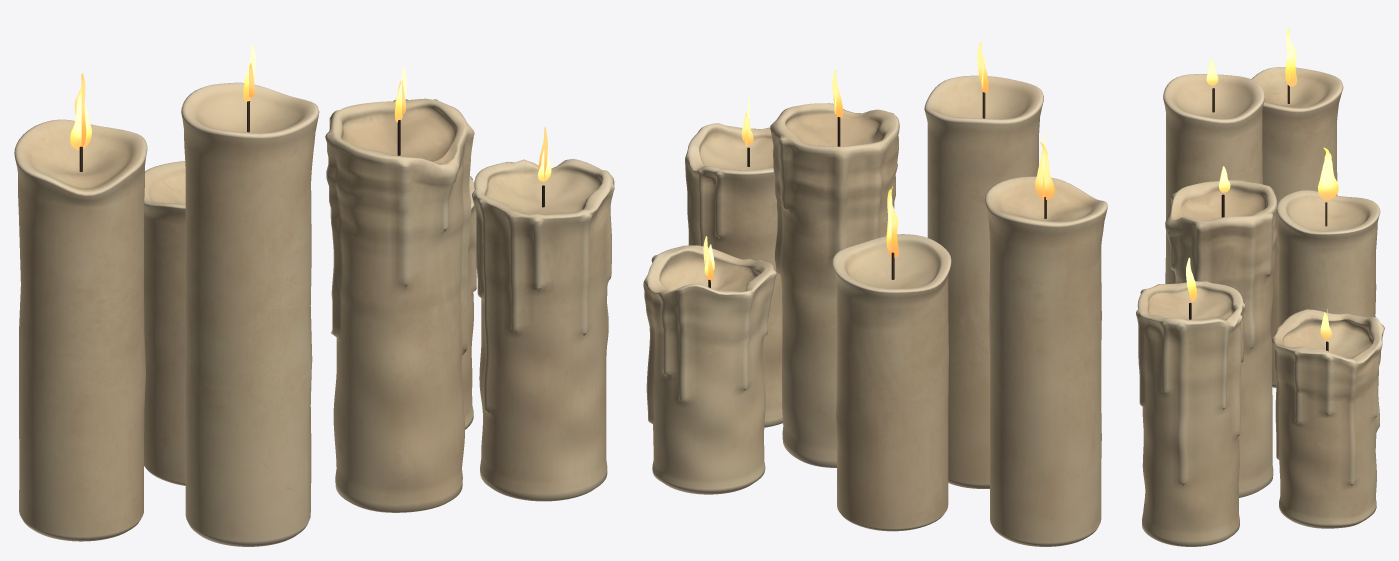
The model's file is candles_asset_pack.glb.
3 renders of one model, left to right at view 1: azimuth 30°, elevation 25°; view 2: azimuth 150°, elevation 25°; view 3: azimuth 270°, elevation 25°, orthographic. The views are drawn at different scales.
Parts seen in each view (by area): view 1: Object_3, Object_4, Object_2, Object_5; view 2: Object_3, Object_4, Object_5, Object_2; view 3: Object_4, Object_3, Object_5, Object_2.
Part boxes in pixels (box(x1,y1,x2,y2)): Object_3: box(14, 82, 319, 546); Object_4: box(325, 98, 614, 512); Object_2: box(70, 44, 551, 182); Object_5: box(397, 120, 544, 429); Object_3: box(832, 75, 1107, 546); Object_4: box(685, 103, 899, 467); Object_5: box(643, 117, 840, 494); Object_2: box(703, 41, 1054, 281); Object_4: box(1136, 180, 1277, 546); Object_3: box(1163, 67, 1380, 387); Object_5: box(1189, 194, 1384, 528); Object_2: box(1186, 28, 1338, 339).
Bounding box in the file's own units: 51.9 × 48.68 × 27.89.
3 materials, 3 textured.
